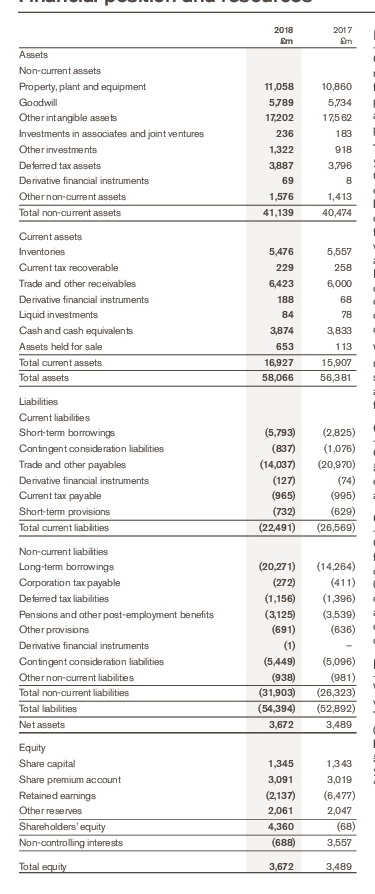table: (0, 0, 375, 894)
